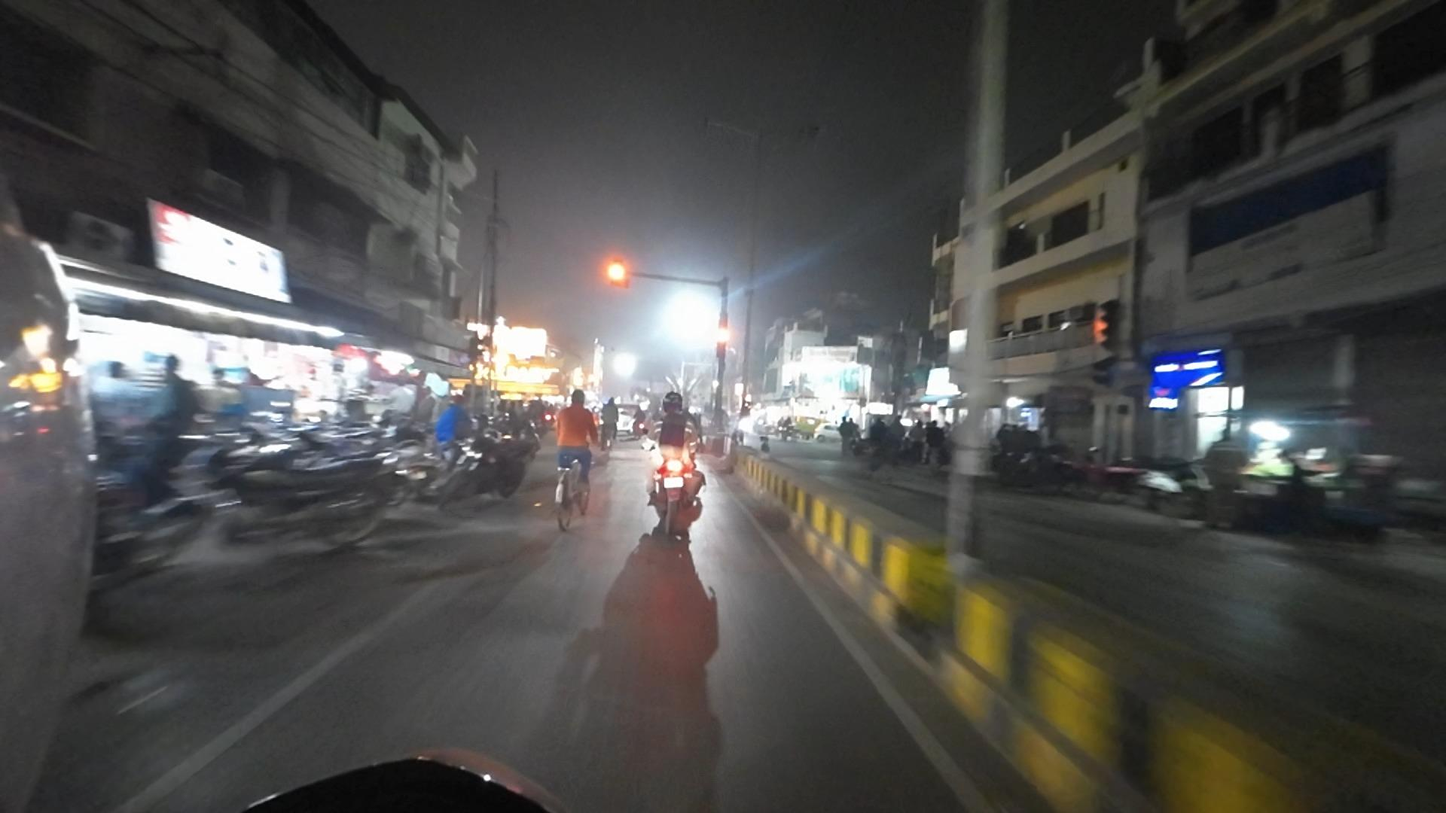streetlight: (700, 114, 752, 140), (768, 123, 825, 143)
